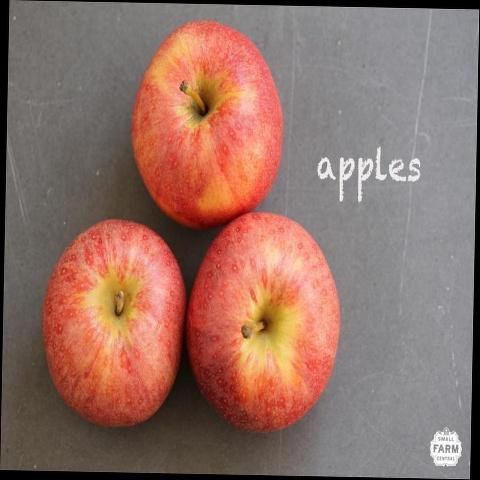red apple: (184, 207, 338, 437), (129, 19, 289, 228), (41, 221, 185, 430)
